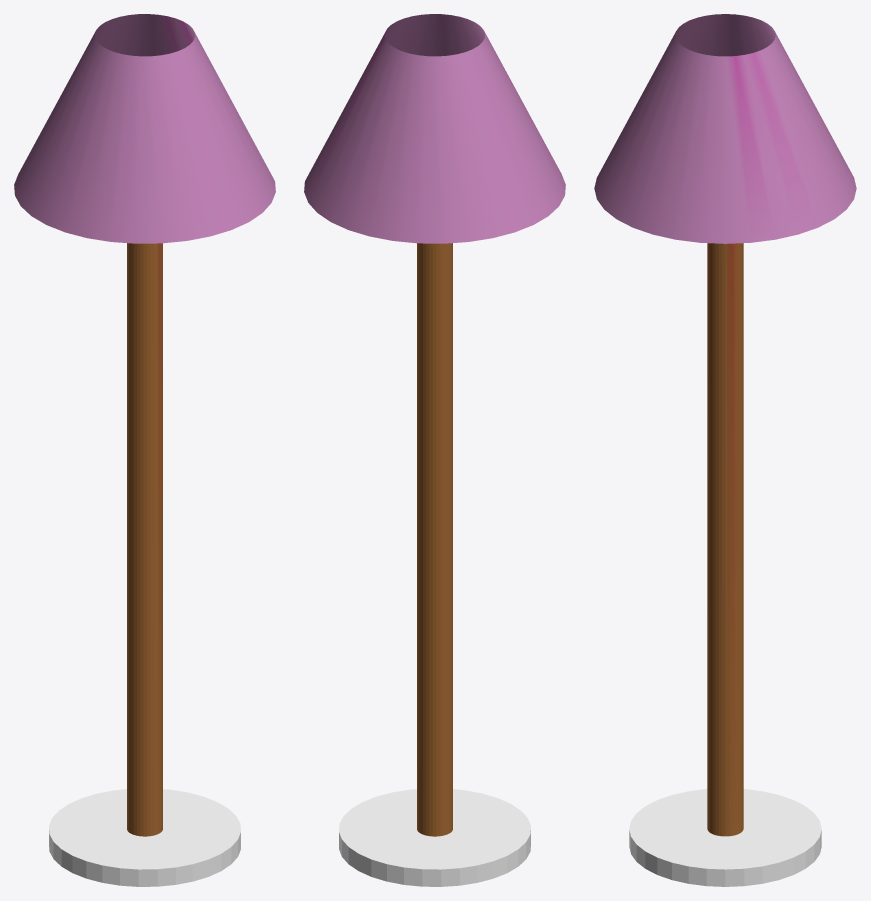
File: Lamp.fbx
3 renders of one model, left to right at view 1: azimuth 30°, elevation 25°; view 2: azimuth 150°, elevation 25°; view 3: azimuth 270°, elevation 25°, orthographic.
Visible parts, largest first — view 1: Light.001; view 2: Light.001; view 3: Light.001.
Part boxes in pixels (x1,y1,x2,y2): Light.001: (14, 14, 275, 886); Light.001: (304, 14, 565, 886); Light.001: (594, 14, 856, 886).
Bounding box in the file's own units: 218 × 743 × 218.
